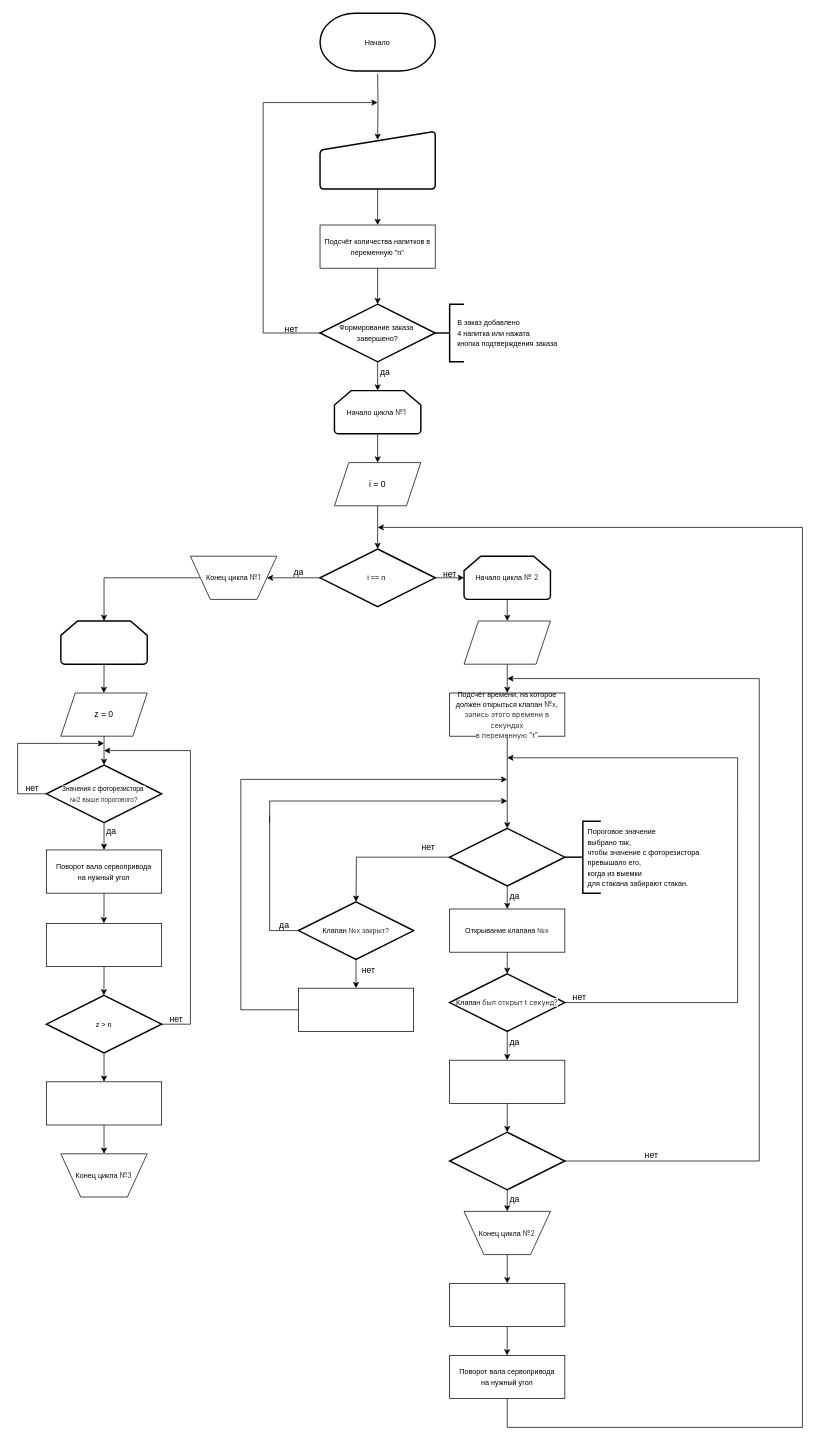
The diagram is 821 pixels wide and 1441 high, and some of its shapes have lost their labels. Here are the shapes that lost their labels. From the top down, the box of each, then its label:
(319, 130, 436, 189): Получение команд от пользователя посредством кнопочного ввода
(60, 620, 148, 665): Начало цикла №3
(463, 620, 550, 664): x = 1
(449, 827, 565, 886): Значения с фоторезистора №1 ниже порогового ?
(46, 923, 162, 967): z = z + 1
(298, 987, 414, 1031): Закрытие клапана №x
(449, 1059, 565, 1103): x = x + 1
(46, 1081, 162, 1125): Возвращение вала сервопривода в изначальное положение
(449, 1131, 565, 1190): x > 3
(449, 1283, 565, 1327): i = i + 1
